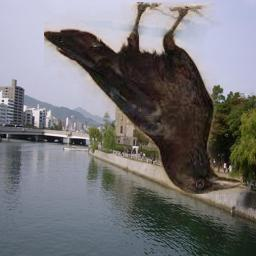Crow: (44, 2, 243, 194)
